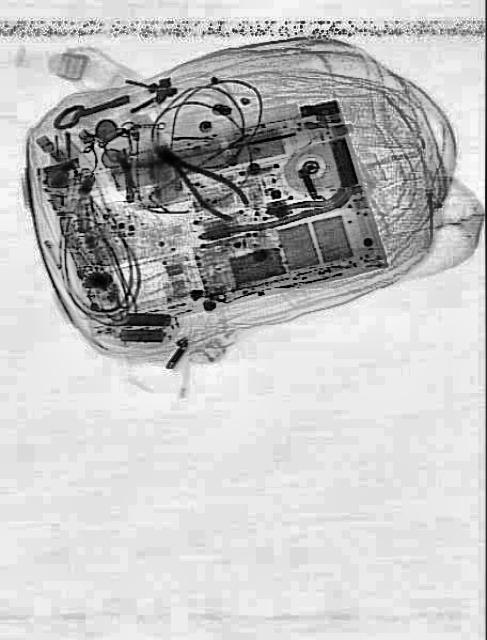Pliers: (147, 126, 252, 232)
